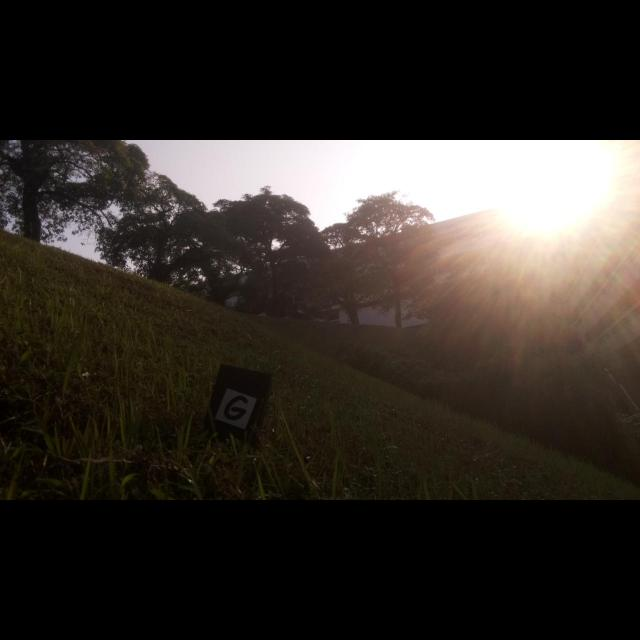G: (224, 396, 248, 420)
